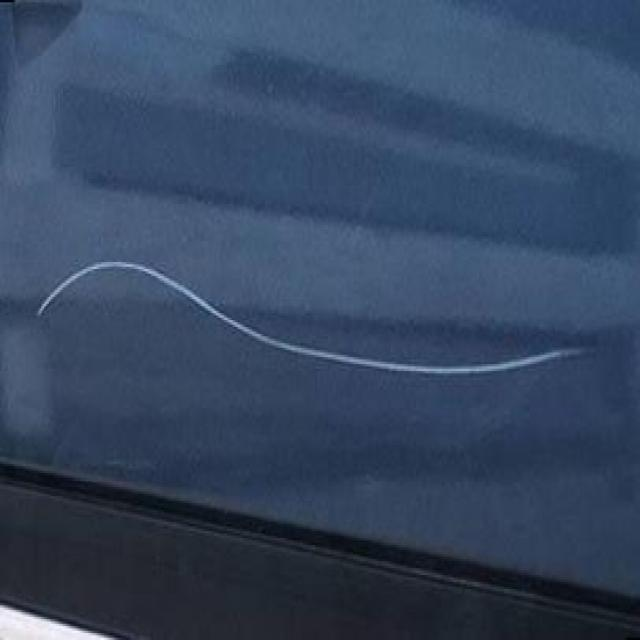scratch: (29, 254, 589, 388)
